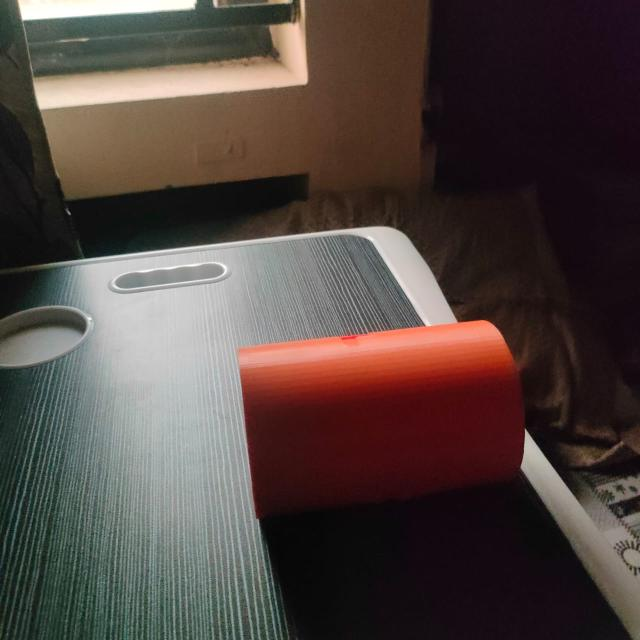Cylinder: (1, 224, 526, 638), (236, 317, 526, 520)
